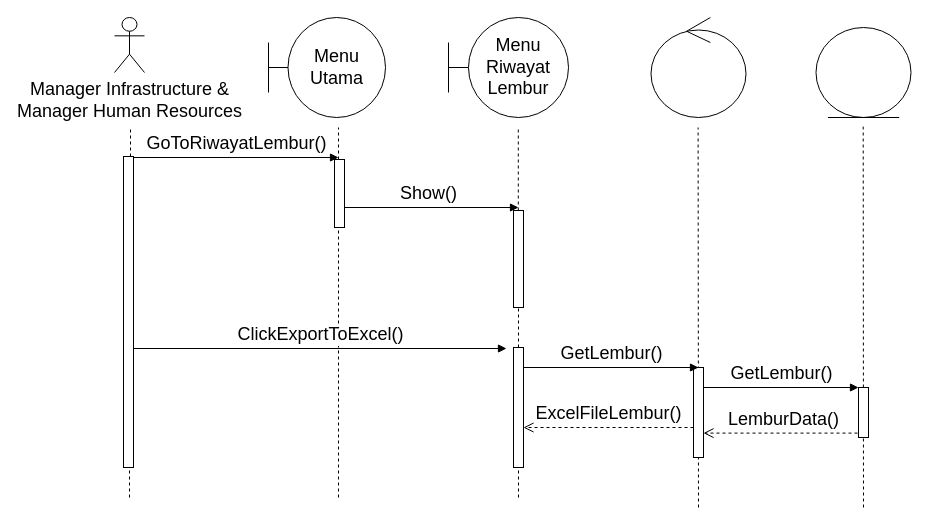
Image size: 929x526. Some labels were removed from this diagram. The box of each missing label's shape, as (x1, y1, x2, y2) in pixels:
Lembur: (815, 26, 911, 118)
Manajer Lembur: (650, 16, 746, 118)
